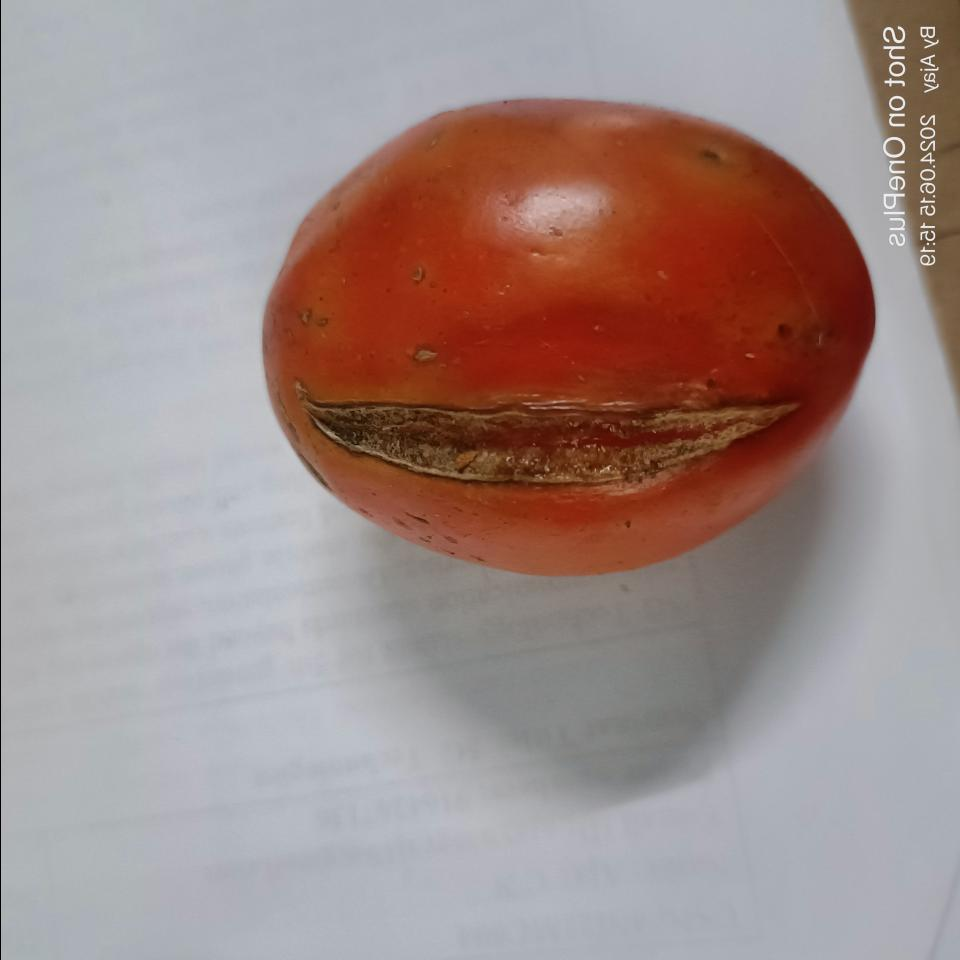Cracking: (302, 392, 837, 501)
